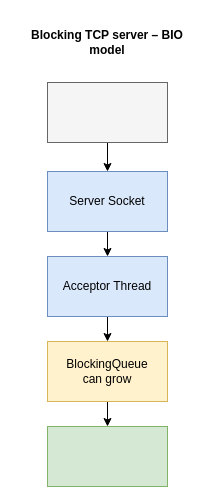
Image size: 214x504. Some labels were removed from this diagram. Each missing label, with the centre of its shape:
"Clients" belongs at pixel 107 112.
"WorkerThreads blocking read/write" belongs at pixel 107 456.
